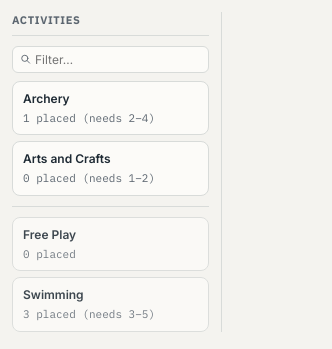
Scenario: ActivityPalette — Ledger + Filter › narrows visible chips by name as the user types
Type "arch" into the field labelled "Filter…" at (110, 59), box [12,46,209,72]
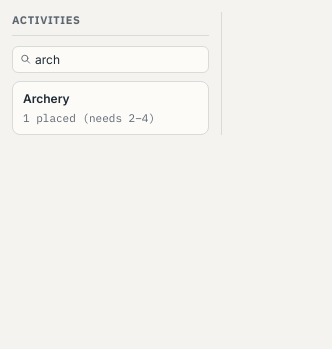
Expected: the button "Swimming" is gone
Expected: the button "Free Play" is gone
Expected: the button "Arts and Crafts" is gone
